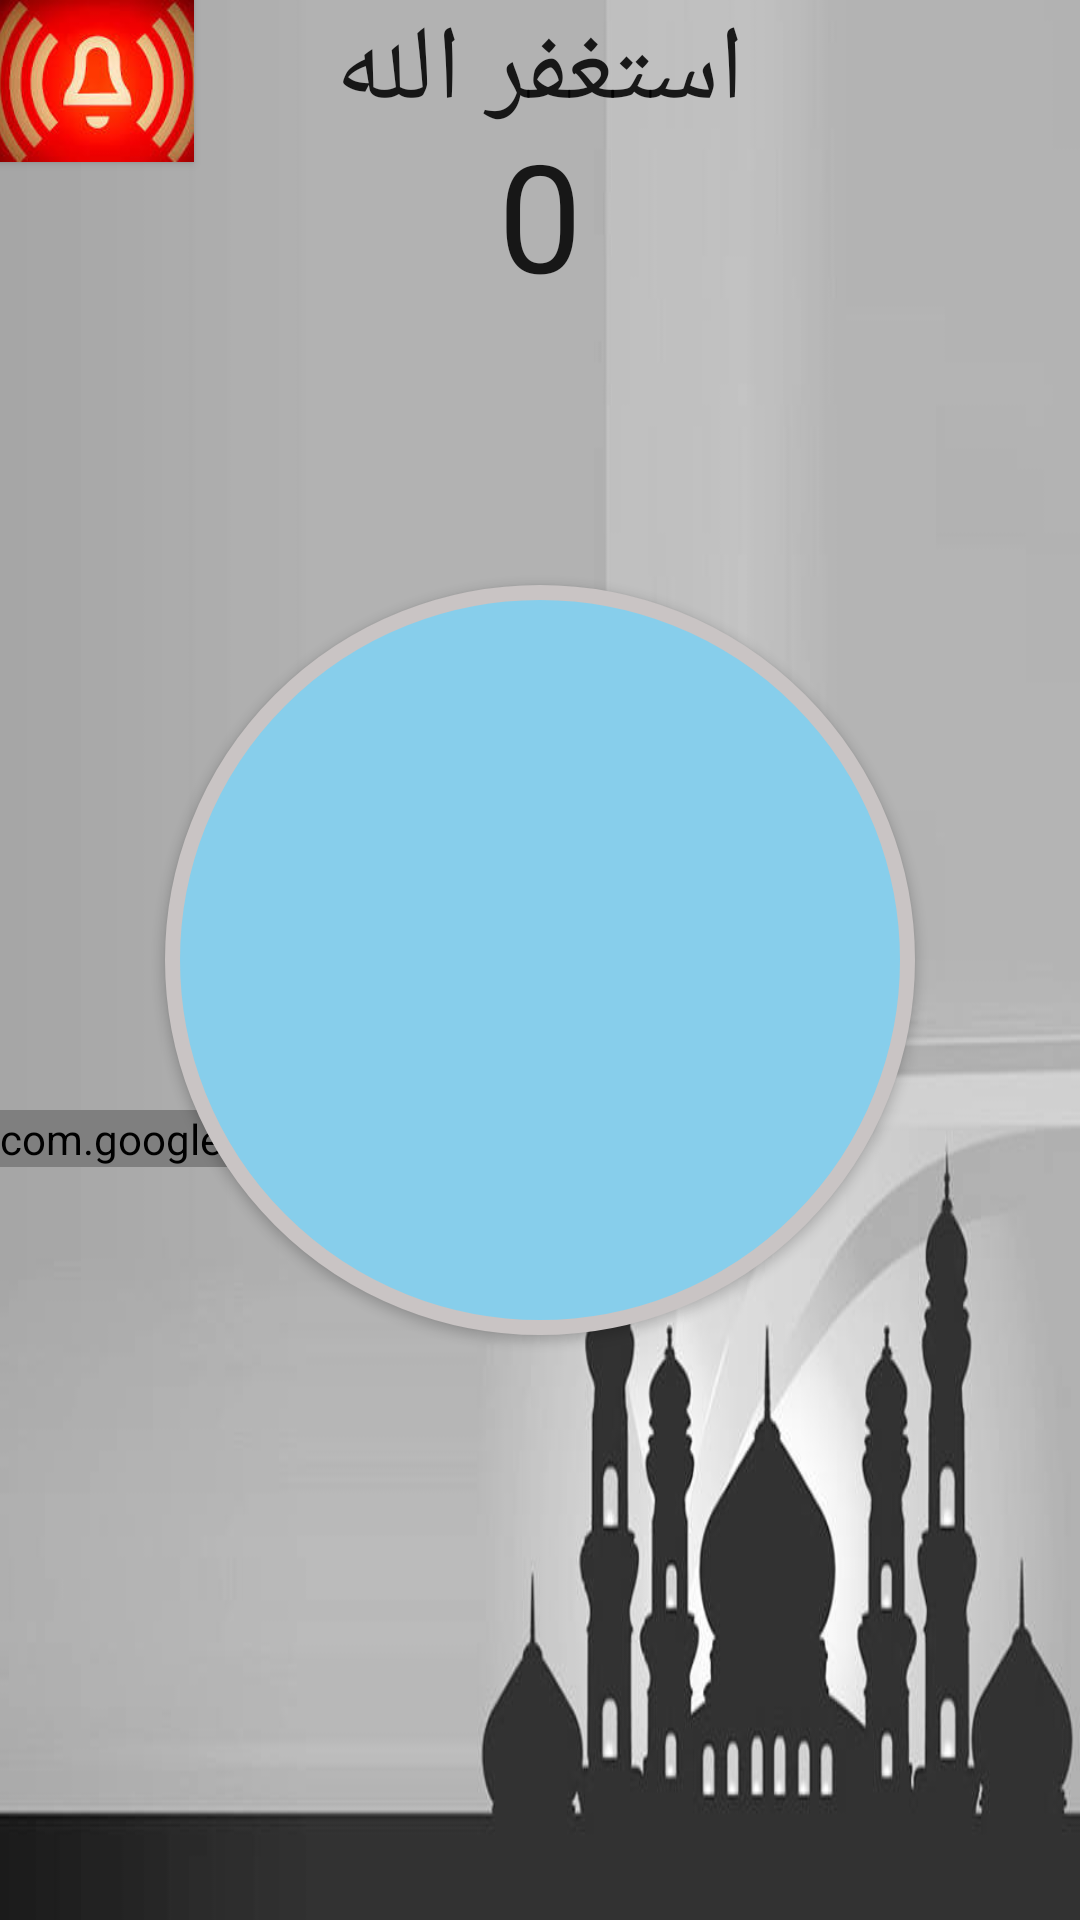

Icons on this 1080 x 1920 Android screen, each with its box as bbox=(x1, y1, x2, y2):
alarm: bbox=(0, 0, 194, 162)
